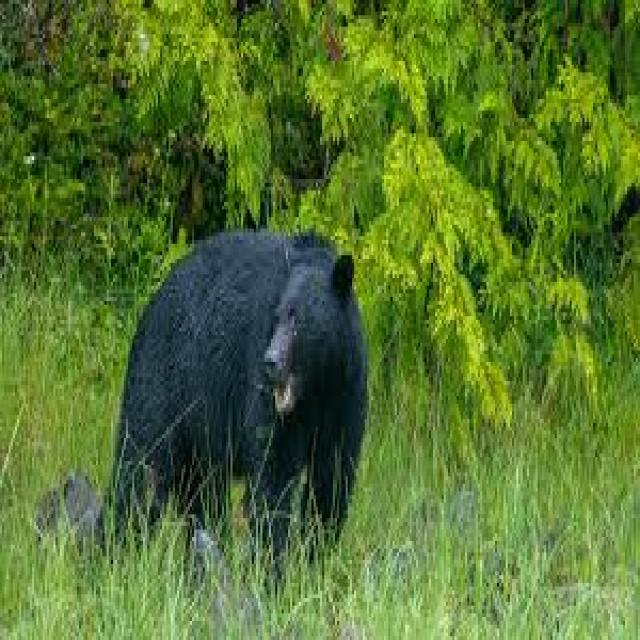bear: (89, 198, 486, 568)
